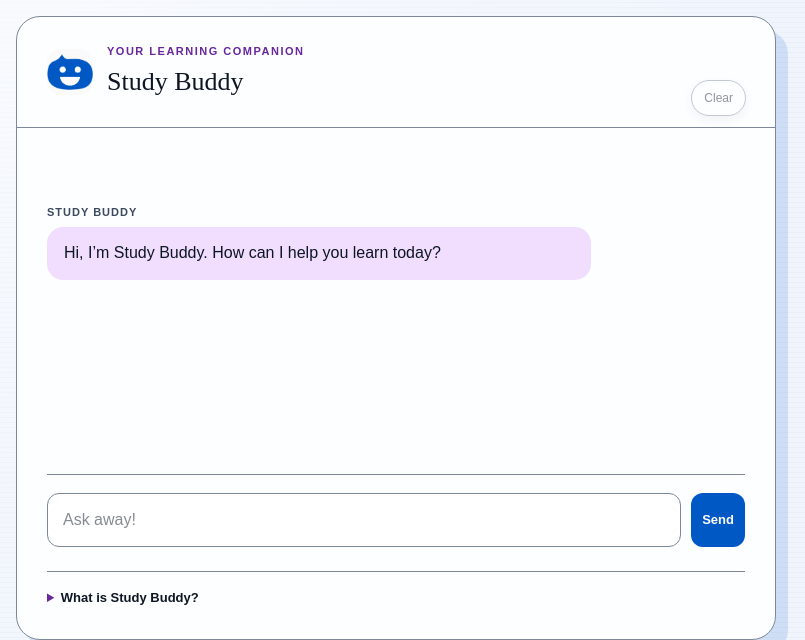
Test: ChatInterface › sends a new message after an error when the user types one
In the field with placeholder "Ask away!": coordinates (364, 520) [47, 492, 681, 546], type "Old message"
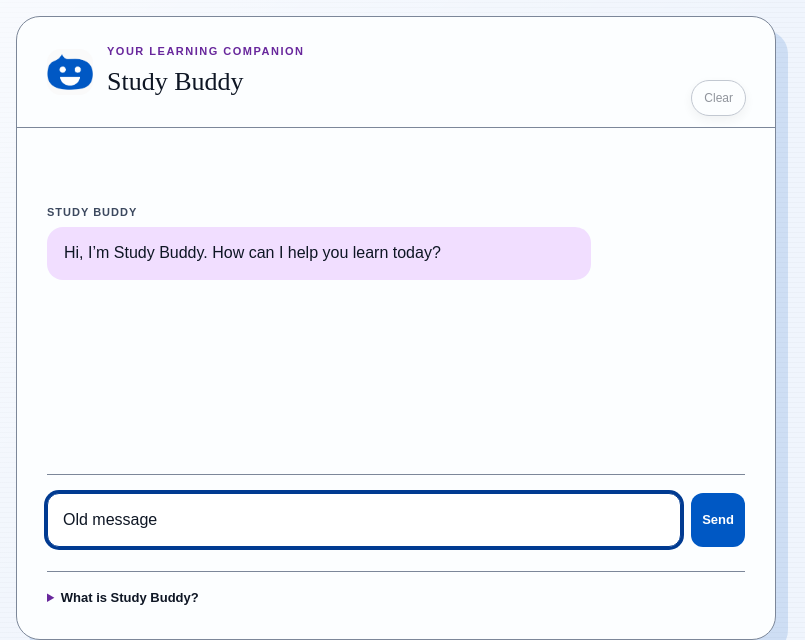
Click the button with aria-label "Send message": coordinates (718, 520) [691, 492, 745, 546]
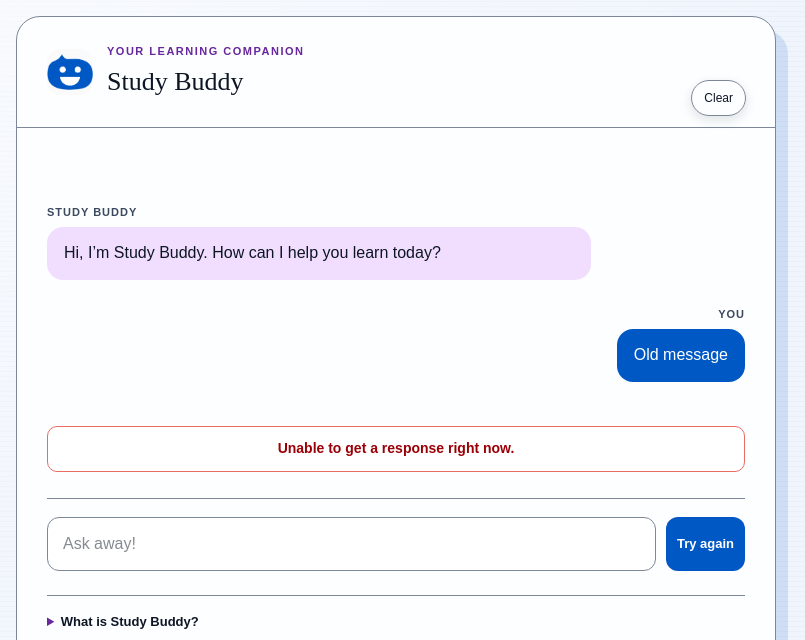
Now the message "Unable to get a response right now." is shown, box [47, 426, 745, 472]
In the field with placeholder "Ask away!": coordinates (351, 544) [47, 517, 656, 571], type "New message"
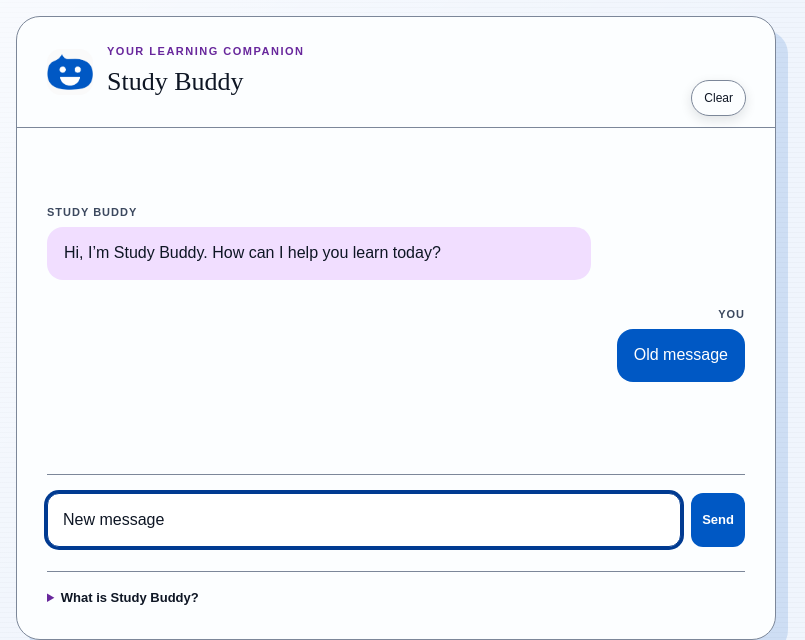
Now the button with aria-label "Send message" is shown
Click the button with aria-label "Send message": coordinates (718, 520) [691, 492, 745, 546]
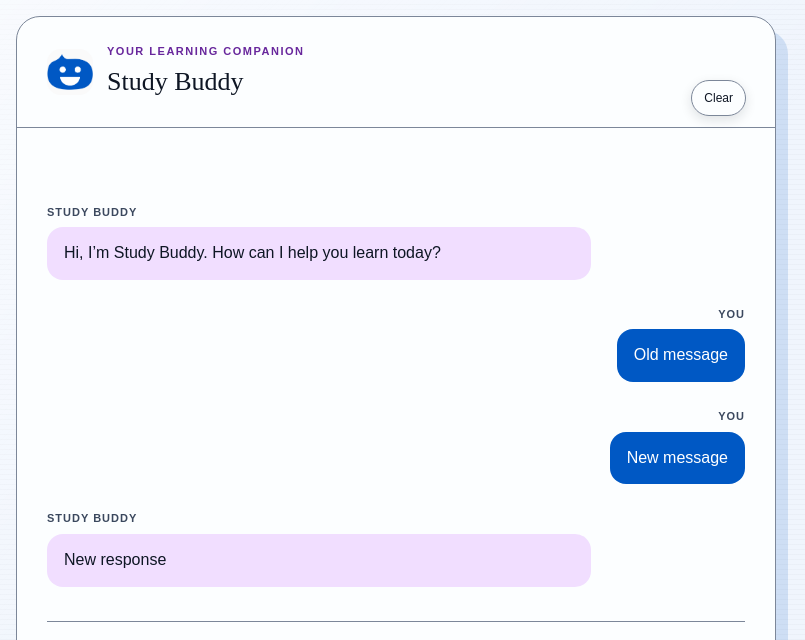
Now the text "New response" is shown, box [64, 551, 166, 568]
